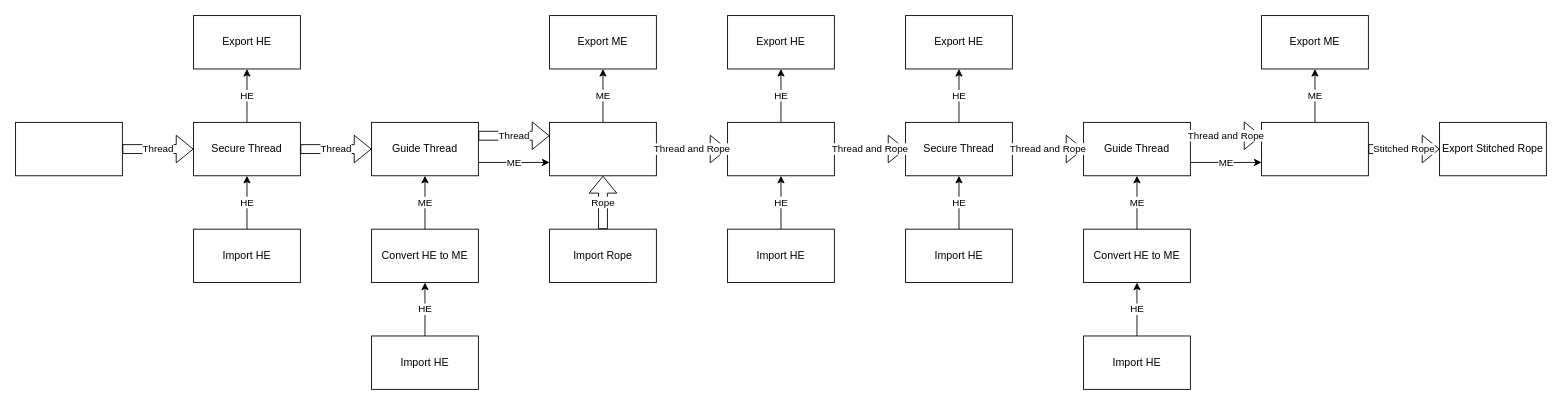
The diagram is 1562 pixels wide and 405 high, and some of its shapes have lost their labels. The shapes that lost their labels are listed below. From the top down, each one's centre as x and y in pixels, then its label:
the point at 68,148: Import Thread
the point at 602,148: Couple Thread and Rope
the point at 780,148: Position Rope
the point at 1314,148: Couple Thread and Stiched Rope
